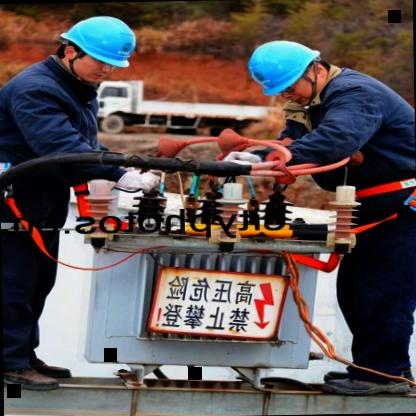helmet: (237, 32, 334, 107), (49, 13, 141, 86)
